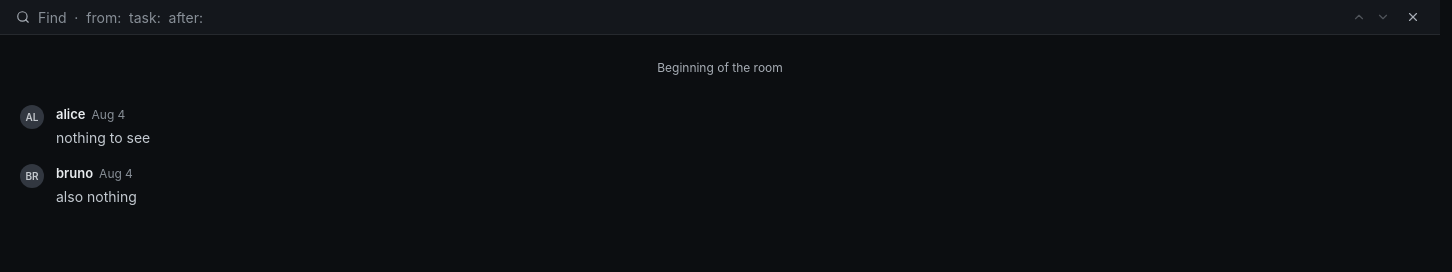
Test case: <EventStream /> find in the channel › finds a sender by name, not only what they said
The width and height of the screenshot is (1452, 272).
Step 1. Type "bruno" into the field named "Find in the channel" → (685, 17), box [38, 6, 1332, 28]
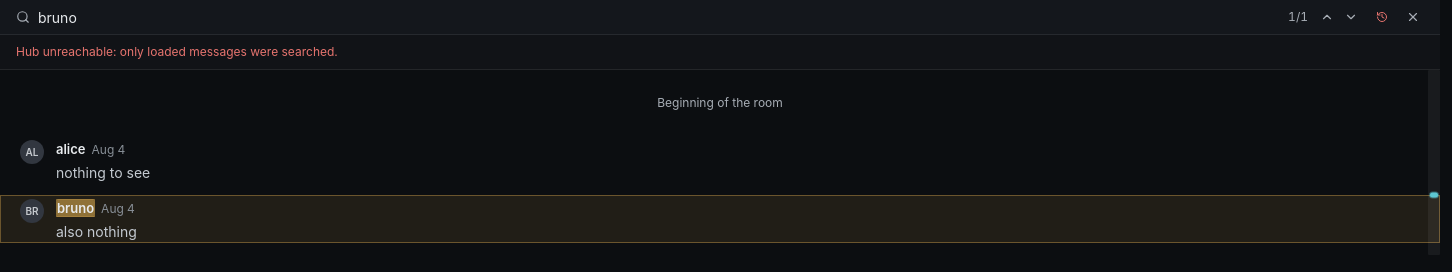
expect the text "1/1" is shown: met, box [1288, 8, 1308, 26]
